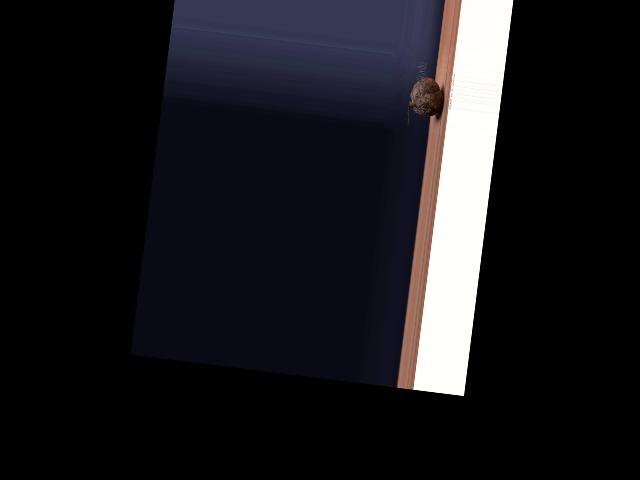beet: (406, 75, 445, 130)
